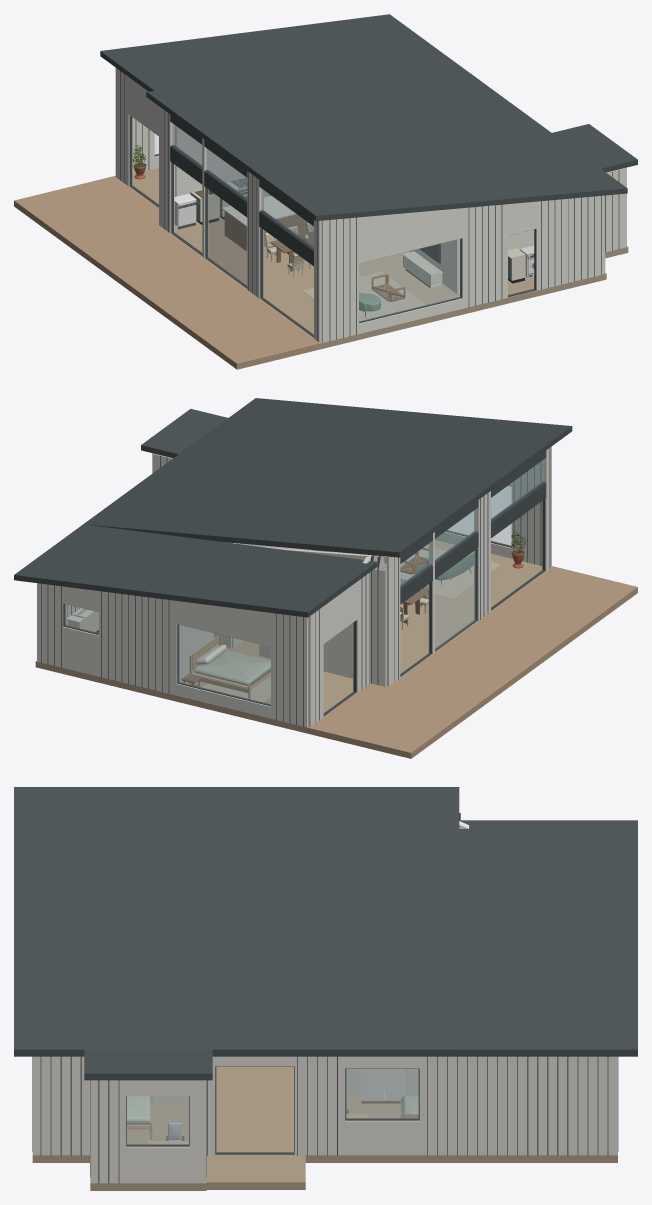
3 renders of one model, top to bottom at view 1: azimuth 30°, elevation 25°; view 2: azimuth 150°, elevation 25°; view 3: azimuth 270°, elevation 25°, orthographic. The views are drawn at different scales.
Parts seen in each view (by area): view 1: Living wing shed roof, rear-deck, Master wing shed roof, ground/slab/0, ground/left/glass-1, ground/left/pier-0, ground/left/end, ground/left/pier-1, ground/left/header-1, ground/rear-living/glass-1, ground/slab/1, Bedroom extension flat roof (+26 smaller); view 2: Living wing shed roof, rear-deck, Master wing shed roof, ground/right/pier-1, ground/slab/0, ground/right/glass-1, ground/right/end, ground/rear-living/glass-1, ground/right/header-1, ground/slab/1, ground/master-return/end, Bedroom extension flat roof (+28 smaller); view 3: Living wing shed roof, Master wing shed roof, ground/front-entry/end, ground/slab/0, ground/front-laundry/end, ground/front-entry/pier-1, Bedroom extension flat roof, ground/front-entry/glass-1, front-porch, ground/bedroom-extension-front/pier-0, ground/bedroom-extension-front/glass-0, ground/front-entry/sill-1 (+11 smaller).
Part boxes in pixels (x1,y1,x2,y2): Living wing shed roof: (146,64,627,221); rear-deck: (14,180,319,369); Master wing shed roof: (100,14,456,91); ground/slab/0: (133,167,606,344); ground/left/glass-1: (359,239,460,321); ground/left/pier-0: (536,195,604,290); ground/left/end: (321,217,358,342); ground/left/pier-1: (462,204,507,308); ground/left/header-1: (359,208,462,263); ground/rear-living/glass-1: (207,189,246,286); ground/slab/1: (157,224,339,349); Bedroom extension flat roof: (552,124,637,172); Living wing shed roof: (83,398,572,557); rear-deck: (327,566,637,758); Master wing shed roof: (14,524,377,617); ground/right/pier-1: (99,591,177,695); ground/slab/0: (35,540,530,733); ground/right/glass-1: (178,625,270,704); ground/right/end: (271,613,308,727); ground/rear-living/glass-1: (435,550,475,649); ground/right/header-1: (176,601,270,646); ground/slab/1: (386,563,553,687); ground/master-return/end: (370,555,386,686); Bedroom extension flat roof: (141,409,227,458); Living wing shed roof: (14,787,459,1056); Master wing shed roof: (459,820,637,1056); ground/front-entry/end: (419,1056,614,1155); ground/slab/0: (32,1066,617,1162); ground/front-laundry/end: (36,1056,89,1155); ground/front-entry/pier-1: (294,1056,345,1155); Bedroom extension flat roof: (84,1049,212,1080); ground/front-entry/glass-1: (346,1069,418,1118); front-porch: (203,1155,305,1189); ground/bedroom-extension-front/pier-0: (94,1080,126,1183); ground/bedroom-extension-front/glass-0: (127,1096,188,1144); ground/front-entry/sill-1: (345,1120,419,1155).
Bounding box in the file's own units: 15.26 × 4.9 × 14.95.
79 materials, 8 textured.
